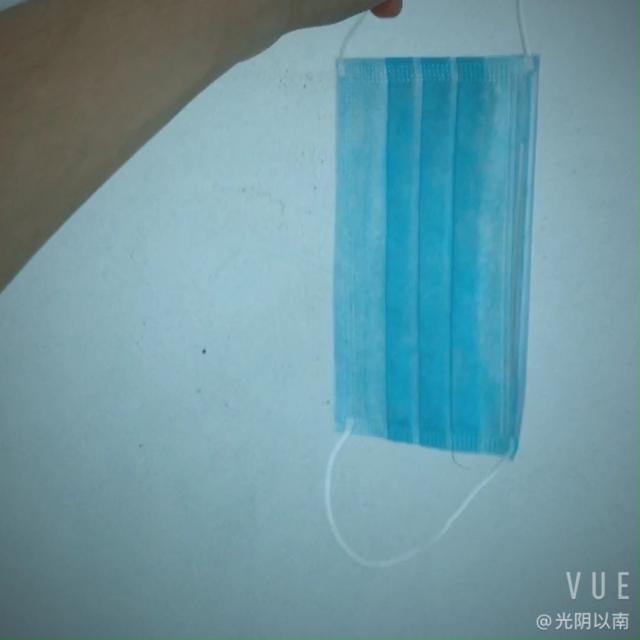face mask: (318, 42, 560, 471)
